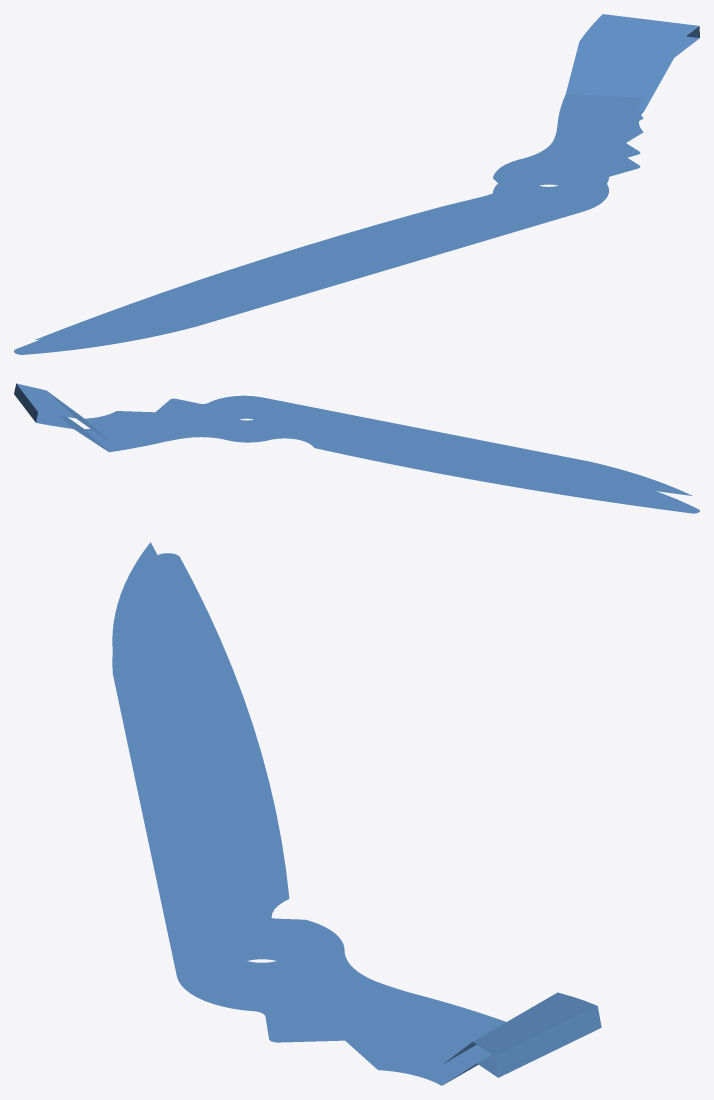
File: original-23.obj
3 views of the same model, one above another, from view 1: azimuth 30°, elevation 25°; view 2: azimuth 150°, elevation 25°; view 3: azimuth 270°, elevation 25° (orthographic). The views are drawn at different scales.
Parts seen in each view (by area): view 1: #ID126; view 2: #ID126; view 3: #ID126.
Boxes of the visible parts, x1=… form: #ID126: x1=14, y1=14, x2=699, y2=354; #ID126: x1=14, y1=383, x2=699, y2=513; #ID126: x1=112, y1=542, x2=601, y2=1085.
Size of the model in its own units: 1.15 by 0.0796 by 0.4042.
